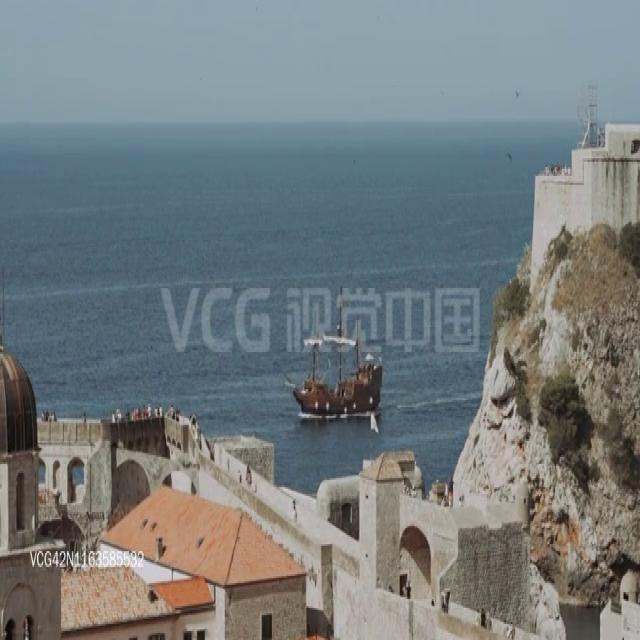sailboat: (285, 289, 379, 421)
